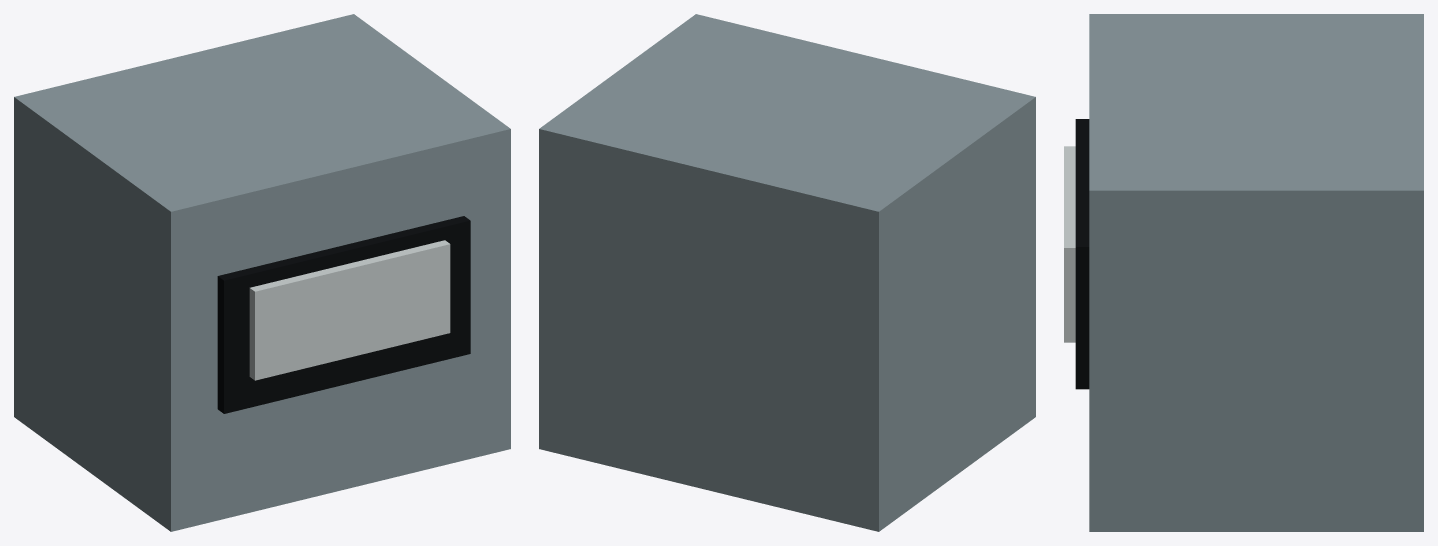
The model's file is floor_control_box.dae.
3 renders of one model, left to right at view 1: azimuth 30°, elevation 25°; view 2: azimuth 150°, elevation 25°; view 3: azimuth 270°, elevation 25°, orthographic. The views are drawn at different scales.
Visible parts, largest first — view 1: floor_control_box; view 2: floor_control_box; view 3: floor_control_box.
Boxes of the visible parts, bbox=[...] form: floor_control_box: bbox=[14, 14, 510, 531]; floor_control_box: bbox=[539, 14, 1035, 531]; floor_control_box: bbox=[1064, 14, 1423, 531].
Size of the model in its own units: 0.4 by 0.344 by 0.36.
